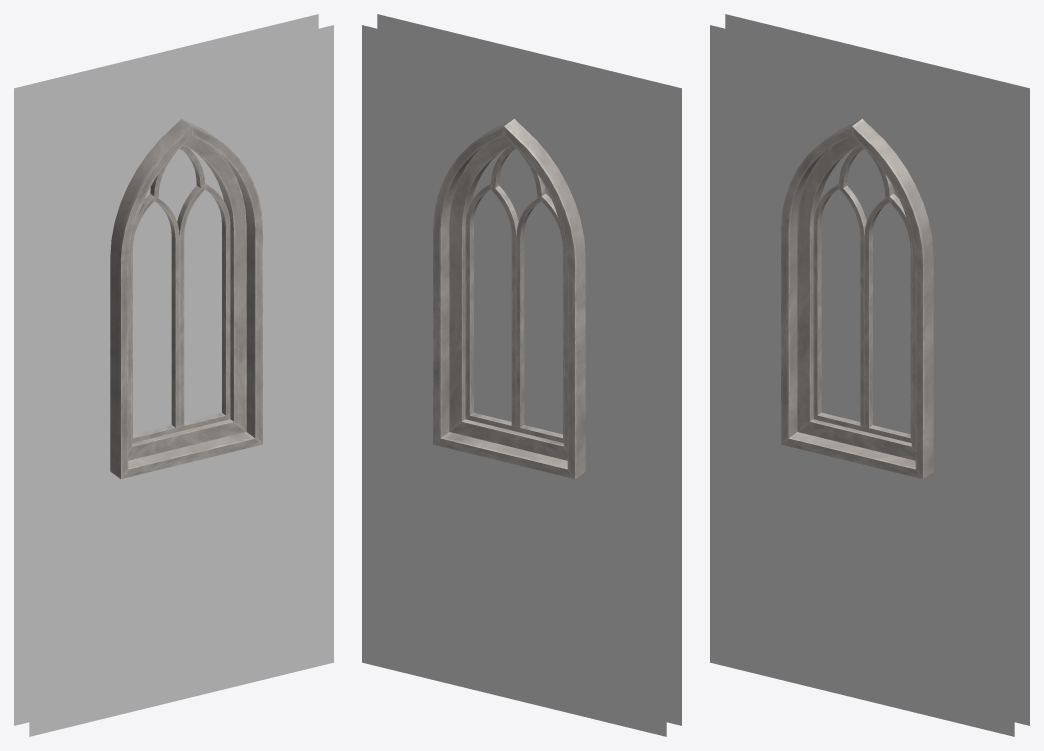
The model's file is Wall_Window_B_A.fbx.
The picture shows the model from 3 angles, left to right: view 1: azimuth 30°, elevation 25°; view 2: azimuth 150°, elevation 25°; view 3: azimuth 330°, elevation 25°; orthographic projection.
Visible parts, largest first — view 1: Wall_Window_B_A; view 2: Wall_Window_B_A; view 3: Wall_Window_B_A.
Boxes of the visible parts, <box> form: Wall_Window_B_A: <box>14,14,333,736</box>; Wall_Window_B_A: <box>362,14,681,736</box>; Wall_Window_B_A: <box>710,14,1029,736</box>.
Bounding box in the file's own units: 3 × 0.6115 × 6.
